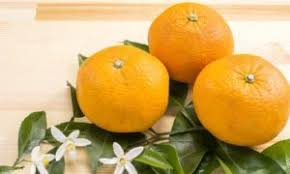orange: (193, 47, 290, 151), (76, 45, 171, 134), (145, 2, 236, 86)
